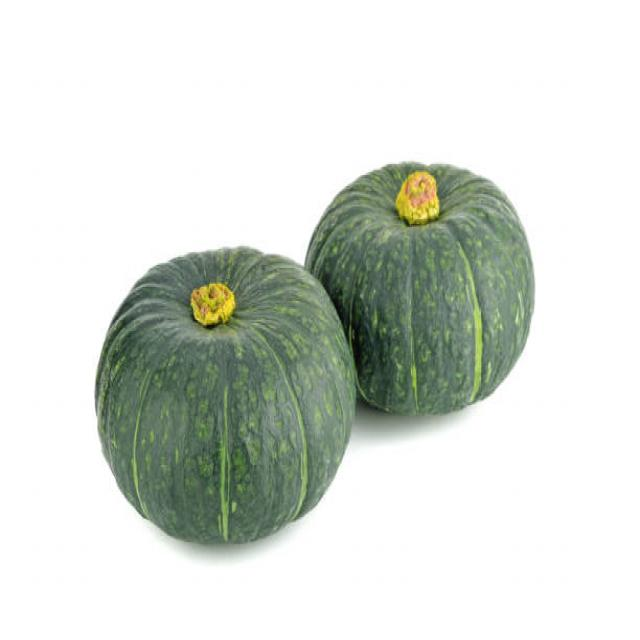Pumpkin: (89, 241, 344, 554), (354, 151, 534, 424)
